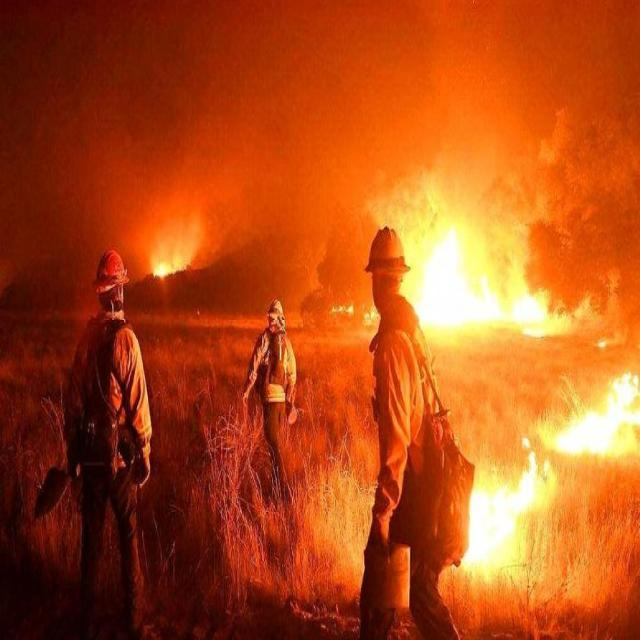Fire: (414, 227, 542, 323), (469, 440, 546, 562), (551, 368, 640, 452)
